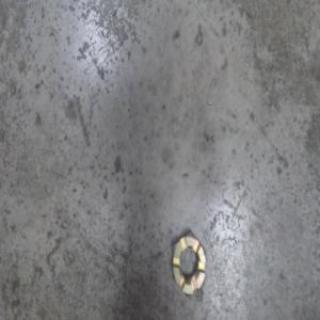Nuttrack_idkeyframe: (170, 228, 205, 297)
